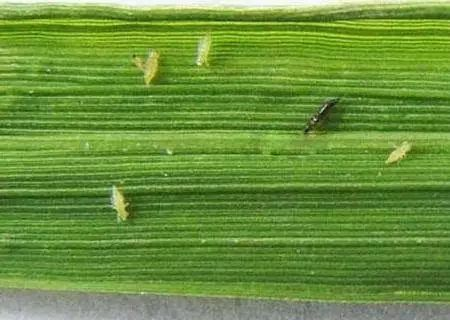thrips: (300, 97, 339, 134), (132, 48, 159, 86), (109, 185, 129, 223), (384, 141, 413, 164), (195, 28, 210, 67)
